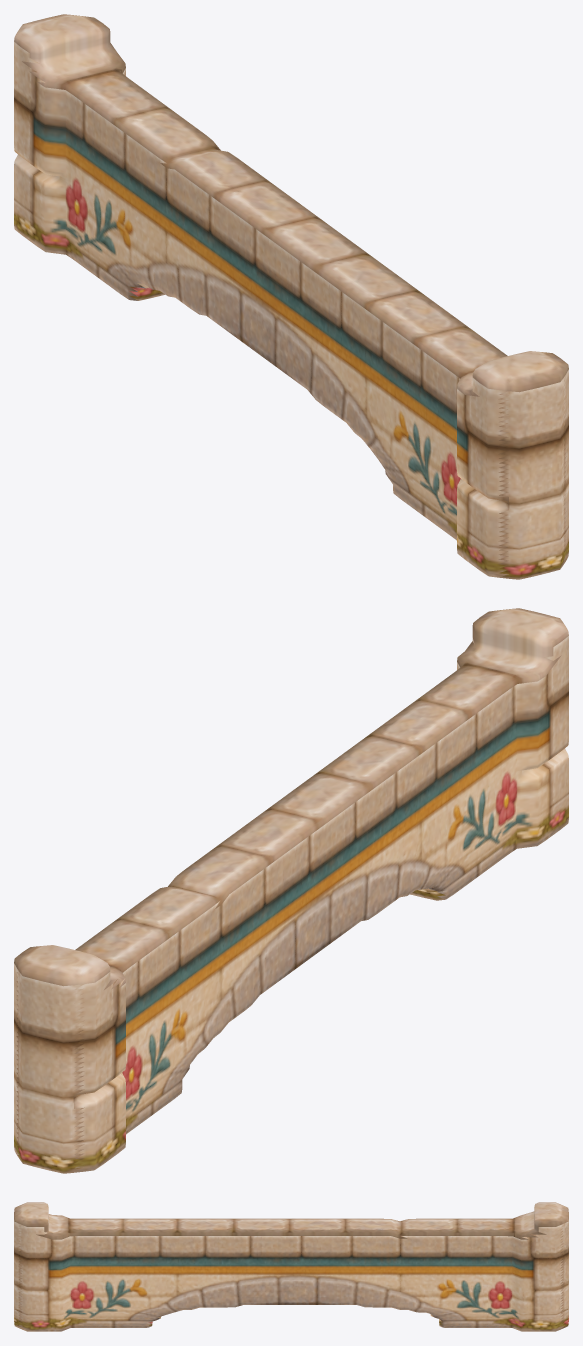
Rendered from bridge-side-frame.glb.
3 views of the same model, one above another, from view 1: azimuth 30°, elevation 25°; view 2: azimuth 150°, elevation 25°; view 3: azimuth 270°, elevation 25° (orthographic). The views are drawn at different scales.
Bounding box in the file's own units: 0.4255 × 1 × 4.47.
1 material, 1 textured.
